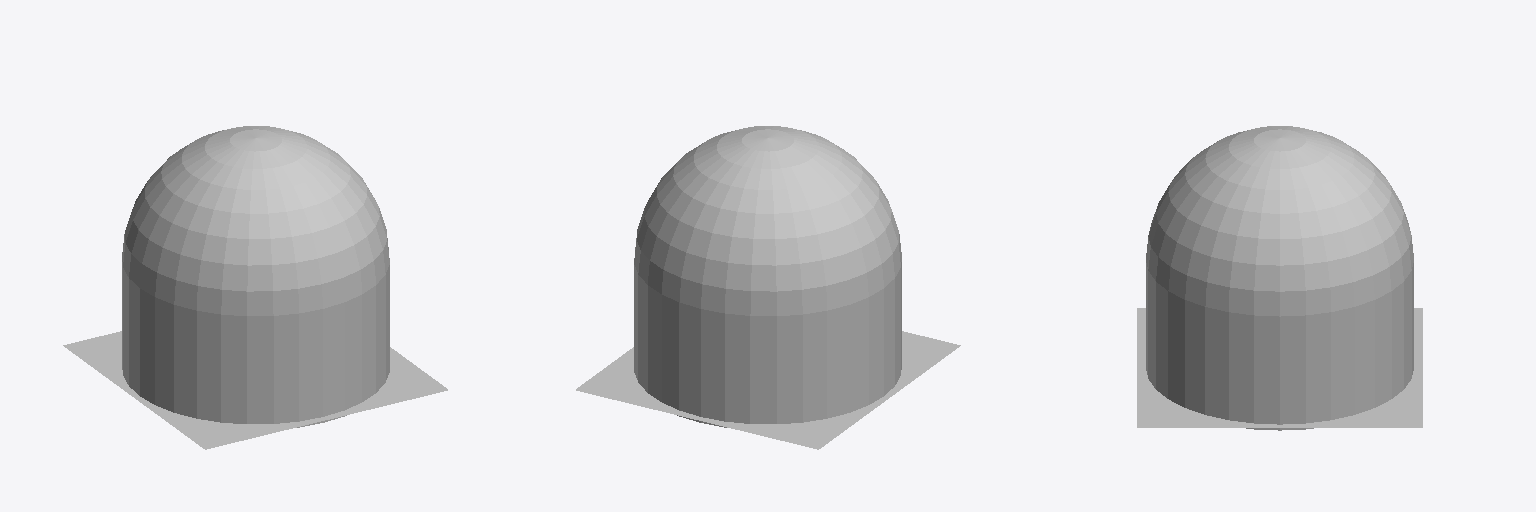
File: domeferme.obj
The picture shows the model from 3 angles: view 1: azimuth 30°, elevation 25°; view 2: azimuth 150°, elevation 25°; view 3: azimuth 270°, elevation 25°; orthographic projection.
Visible parts, largest first — view 1: Sphere; view 2: Sphere; view 3: Sphere.
Part boxes in pixels (bbox=[...]): Sphere: bbox=[63, 126, 447, 449]; Sphere: bbox=[576, 126, 960, 449]; Sphere: bbox=[1137, 126, 1422, 430].
Size of the model in its own units: 2.1 by 1.94 by 2.12.